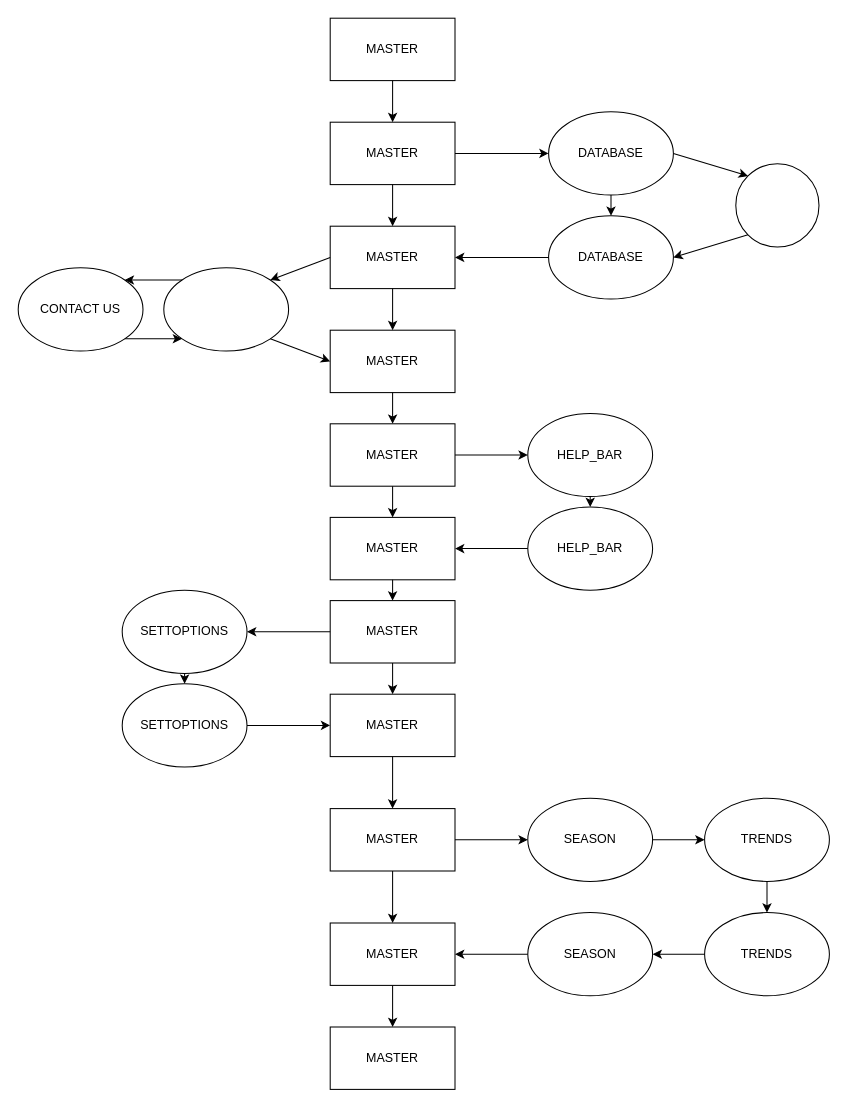
Image size: 848x1108. Some labels were removed from this diagram. Here are the shapes that lost their labels. From the top down, the centre of each, then its label:
At (777,205): "logout-click".
At (226,309): "SETTINGS SETBAR".
